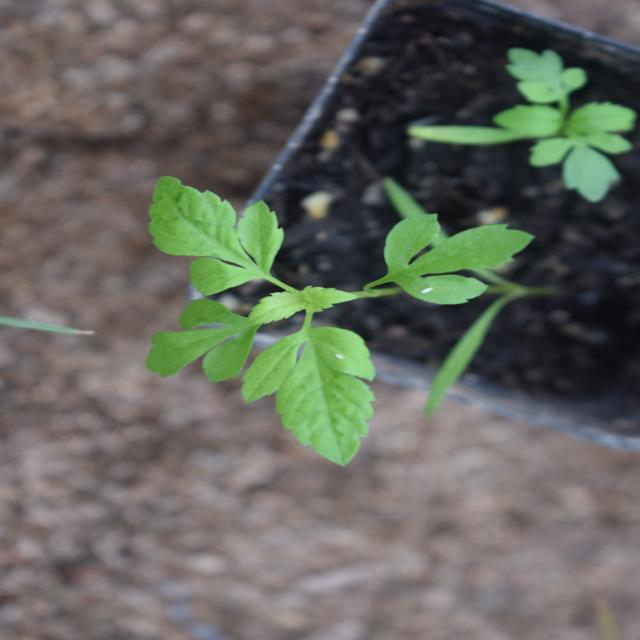Bidens pilosa: (184, 97, 473, 538)
